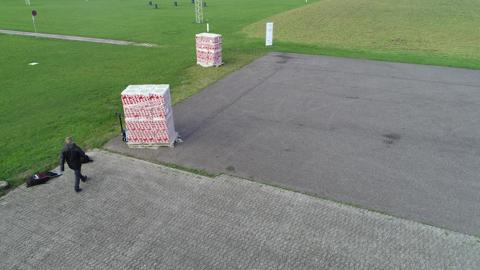RockwoolPallet: (120, 86, 177, 144)
